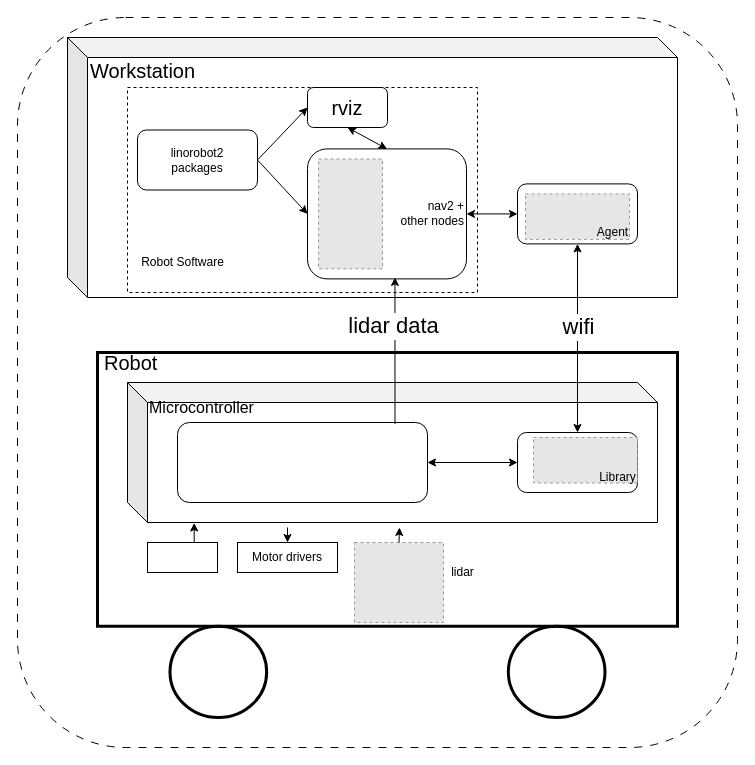
Some shapes in this 755 by 765 pixel diagram are drawn without their labels. Grey dashed boxes stand in for pictures. The centre of each missing label's shape, as x and y in pixels:
Robot Firmware from linorobot2_hardware: point 302,462
Sensors: point 182,557
